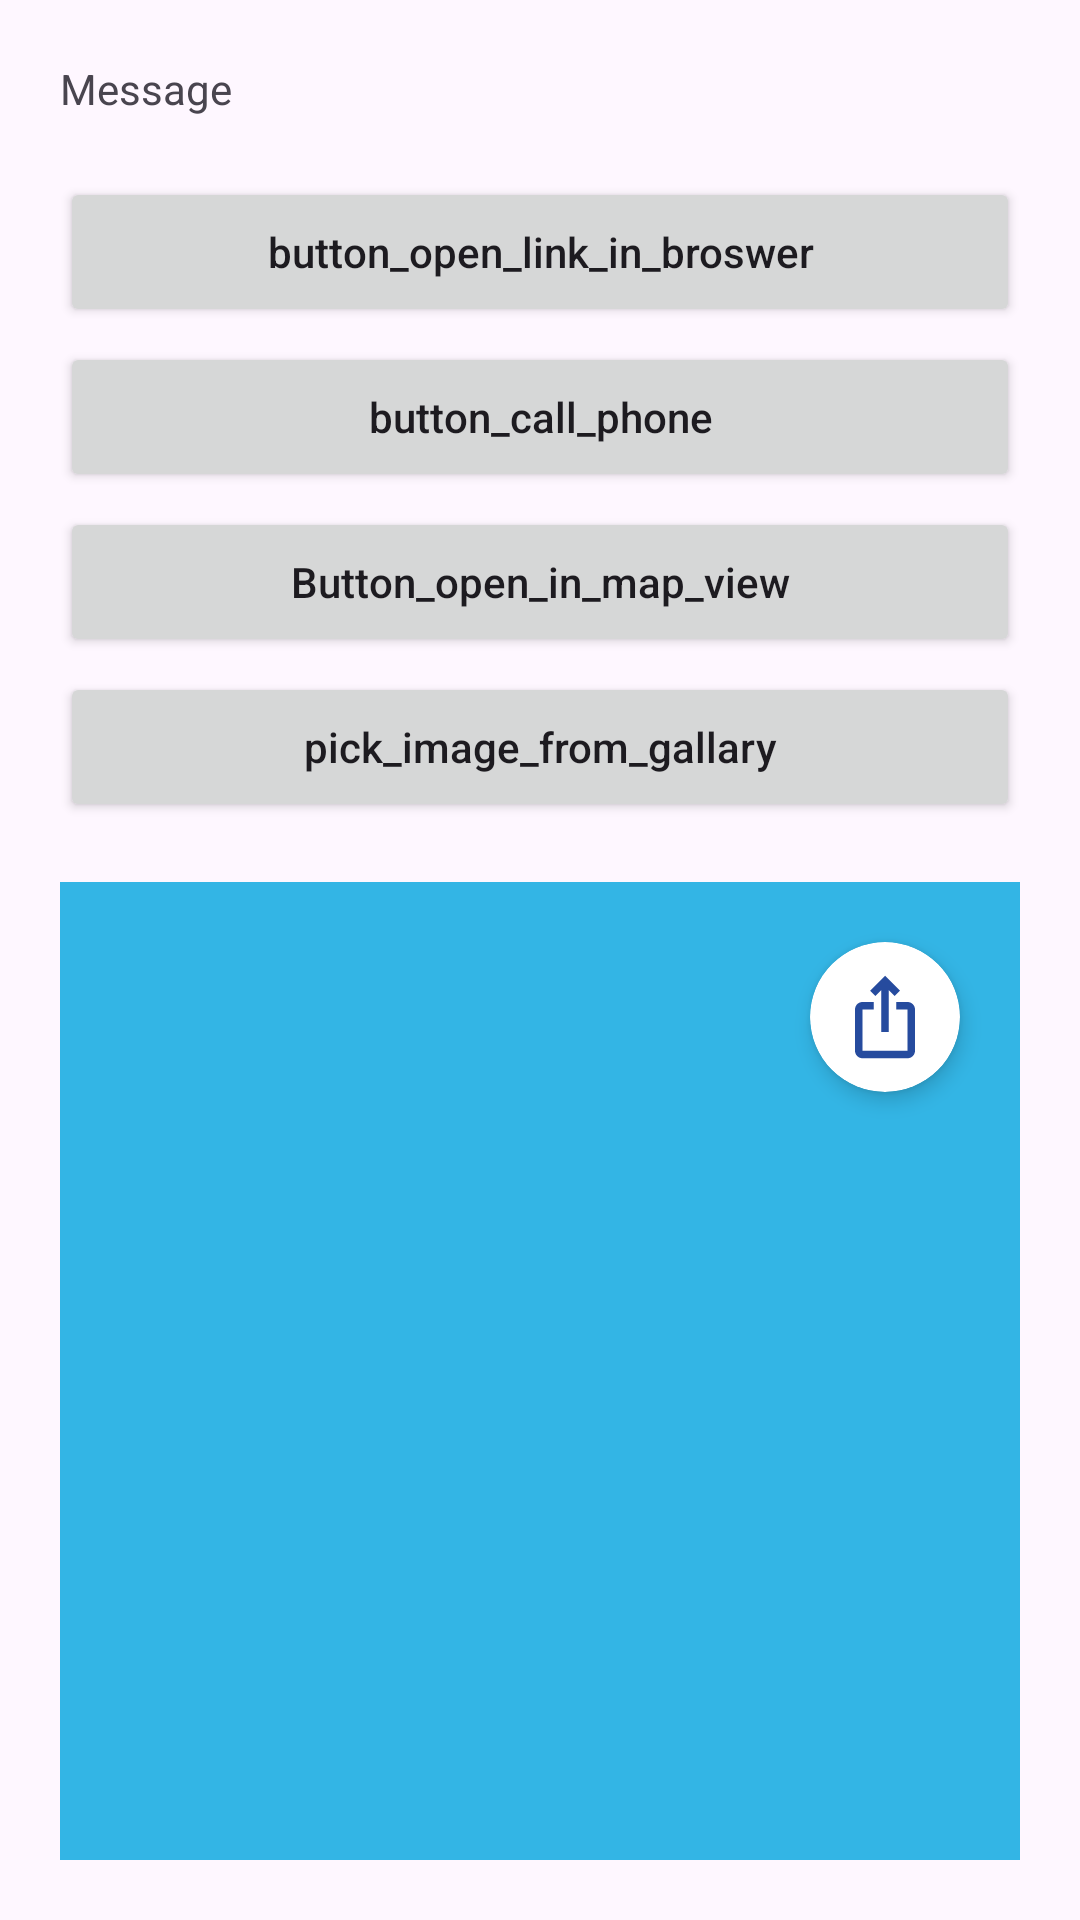

Icon click points for this 1080 x 1920 phone screenshot, format [x,y]:
share: [885,1017]
